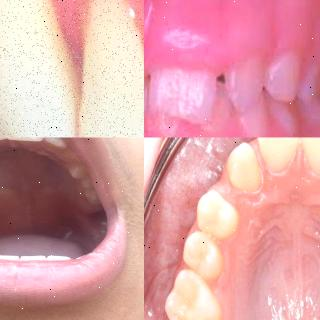Gum Swelling: (144, 0, 302, 66), (30, 0, 144, 90), (144, 120, 237, 138)
calculus: (24, 138, 49, 140)
